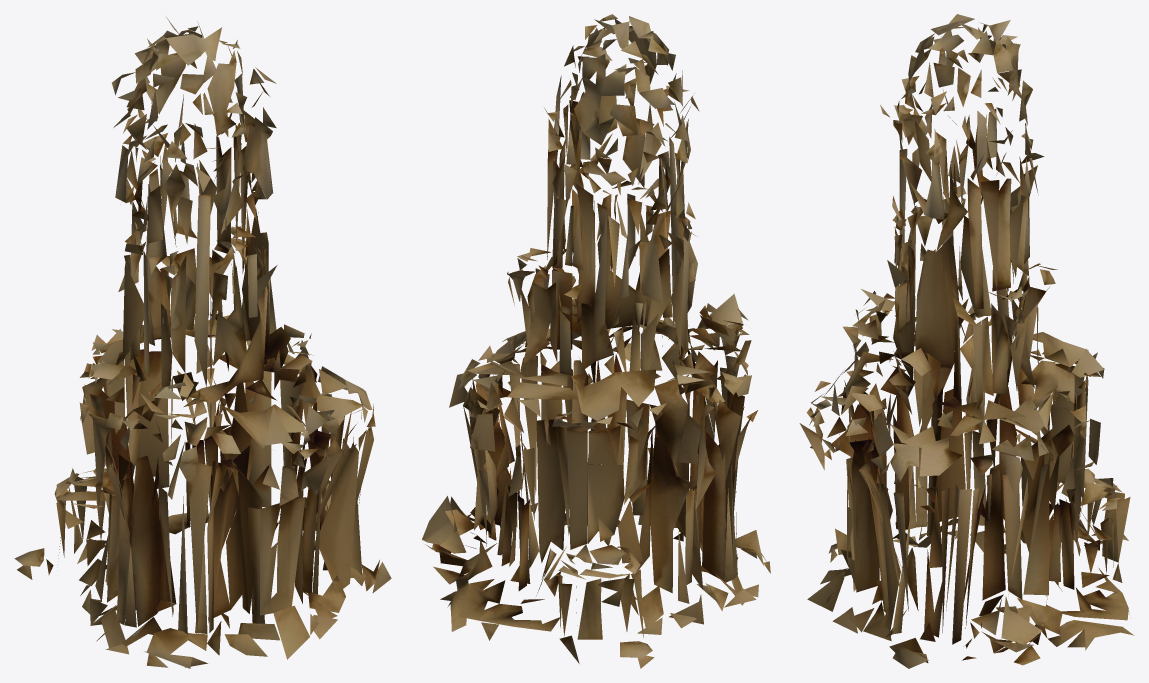
Rendered from cav_flowstone_column_LOD3.glb.
The picture shows the model from 3 angles, left to right: view 1: azimuth 30°, elevation 25°; view 2: azimuth 150°, elevation 25°; view 3: azimuth 270°, elevation 25°; orthographic projection.
Visible parts, largest first — view 1: tripo_node_8a3f4ca2-850e-4edb-8c34-48b62ca6a1c1; view 2: tripo_node_8a3f4ca2-850e-4edb-8c34-48b62ca6a1c1; view 3: tripo_node_8a3f4ca2-850e-4edb-8c34-48b62ca6a1c1.
Part boxes in pixels (x1,y1,x2,y2): tripo_node_8a3f4ca2-850e-4edb-8c34-48b62ca6a1c1: [14, 17, 391, 668]; tripo_node_8a3f4ca2-850e-4edb-8c34-48b62ca6a1c1: [422, 14, 770, 668]; tripo_node_8a3f4ca2-850e-4edb-8c34-48b62ca6a1c1: [799, 14, 1133, 668].
Size of the model in its own units: 0.5333 by 1.01 by 0.5307.
Materials: 1 (1 with a texture image).
